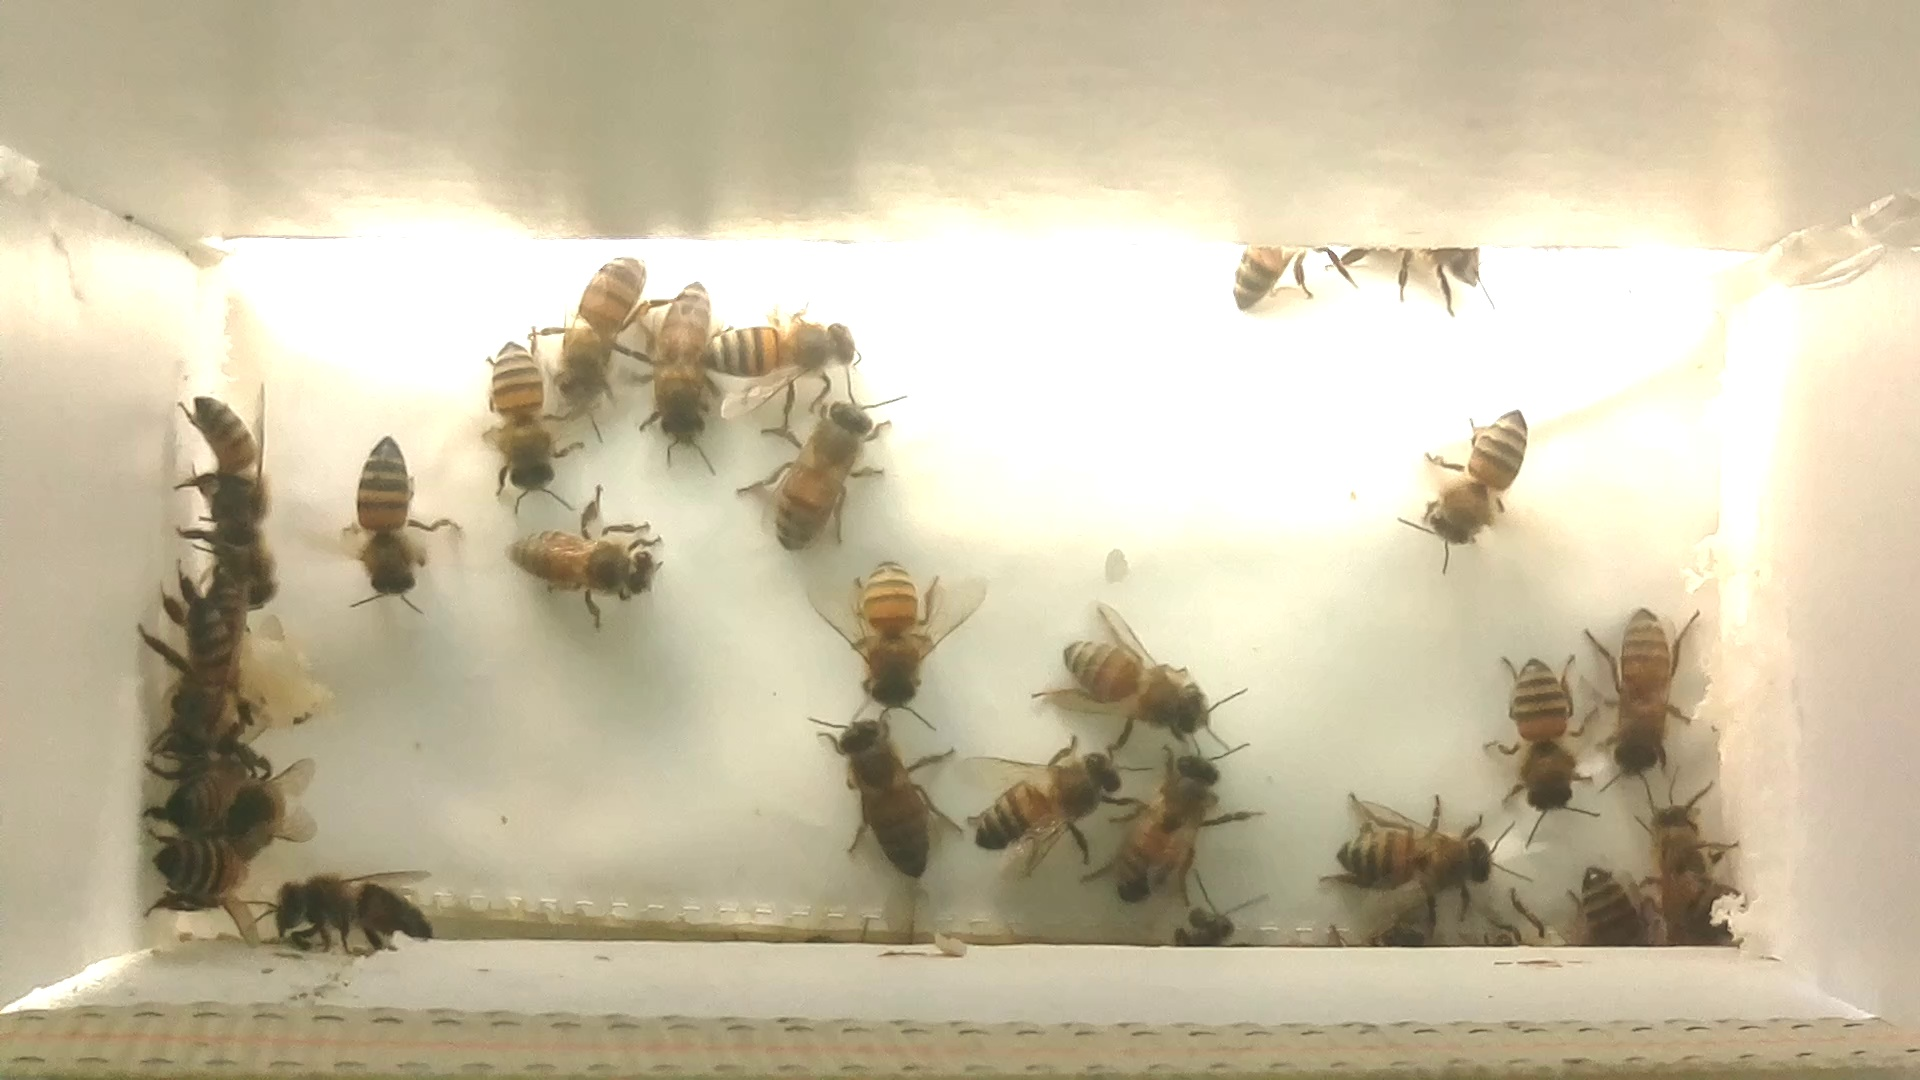bee: (781, 684, 971, 899), (804, 543, 993, 742), (1084, 719, 1263, 923), (1308, 778, 1536, 934), (1031, 601, 1255, 760), (740, 375, 911, 574), (310, 425, 465, 636), (944, 715, 1130, 889), (489, 476, 679, 645), (1578, 591, 1712, 806), (529, 228, 661, 444), (1478, 634, 1607, 855), (456, 318, 593, 524), (240, 858, 473, 973), (626, 260, 740, 495), (1403, 386, 1539, 575), (170, 363, 289, 564), (698, 294, 876, 410), (146, 583, 265, 756), (1639, 795, 1760, 955), (1349, 215, 1490, 328), (133, 814, 274, 926), (146, 741, 280, 847), (1209, 219, 1346, 315), (1551, 847, 1660, 961)
